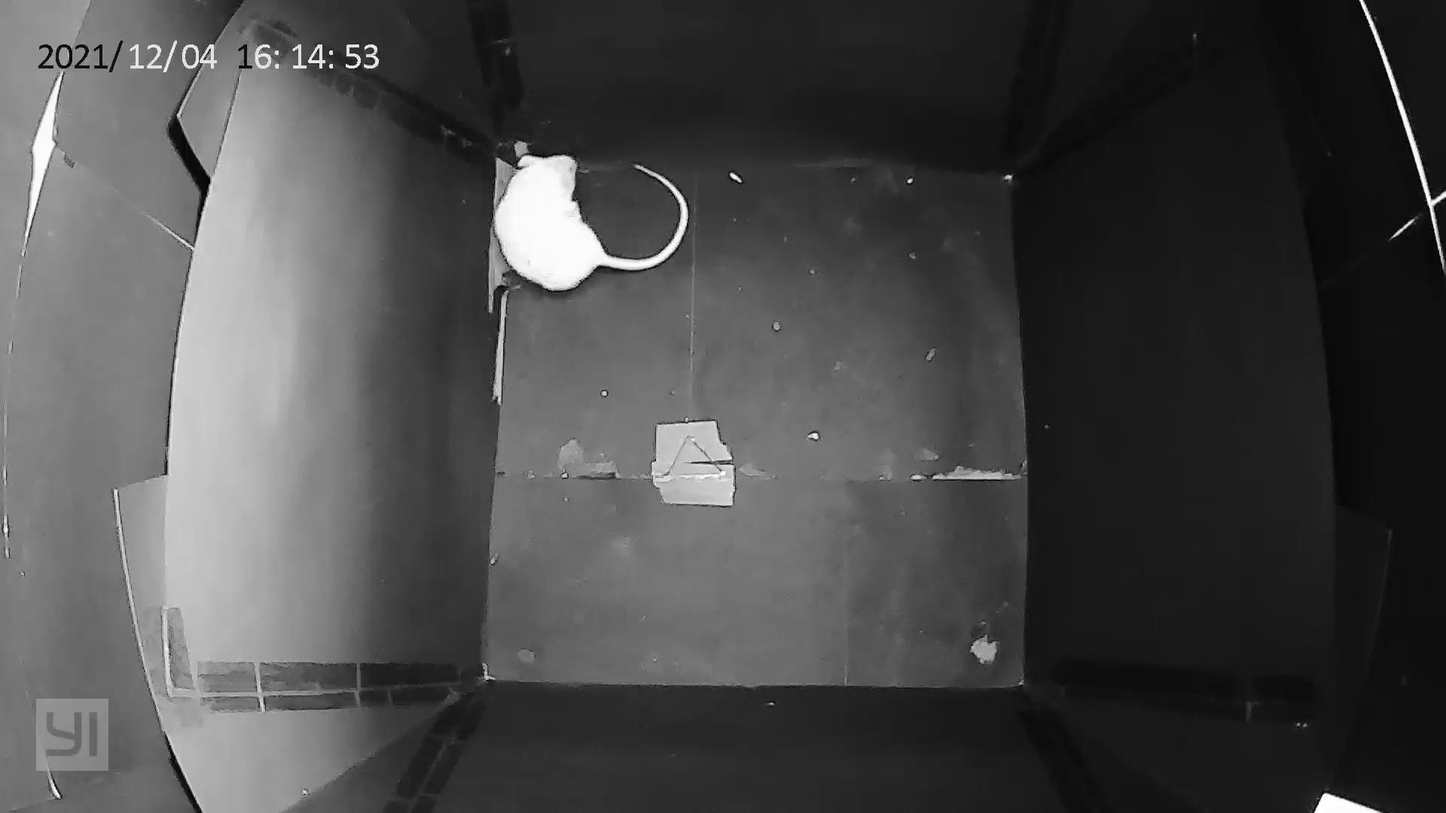rat: (473, 128, 705, 305)
